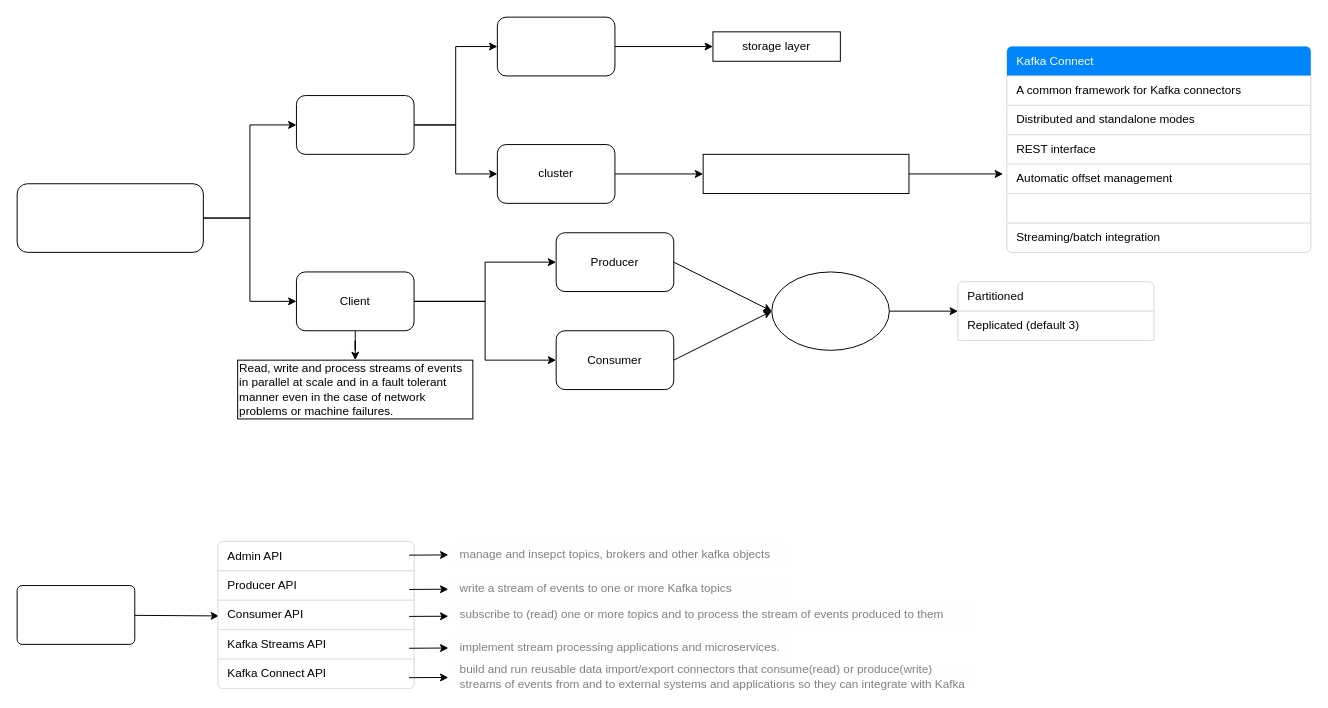
The diagram is 1328 pixels wide and 708 high, and some of its shapes have lost their labels. The shapes that lost their labels are listed below. From the top down, each one's centre as x and y in pixels, then its label:
At point (555, 46): "broker".
At point (354, 124): "Server".
At point (805, 173): "Kafka Connect to continuously import and export data as event streams".
At point (109, 217): "Kafka An Event Streaming platform".
At point (1158, 208): "Distributed and scalable by default".
At point (830, 310): "Topic".
At point (75, 614): "Kafka APIs".
